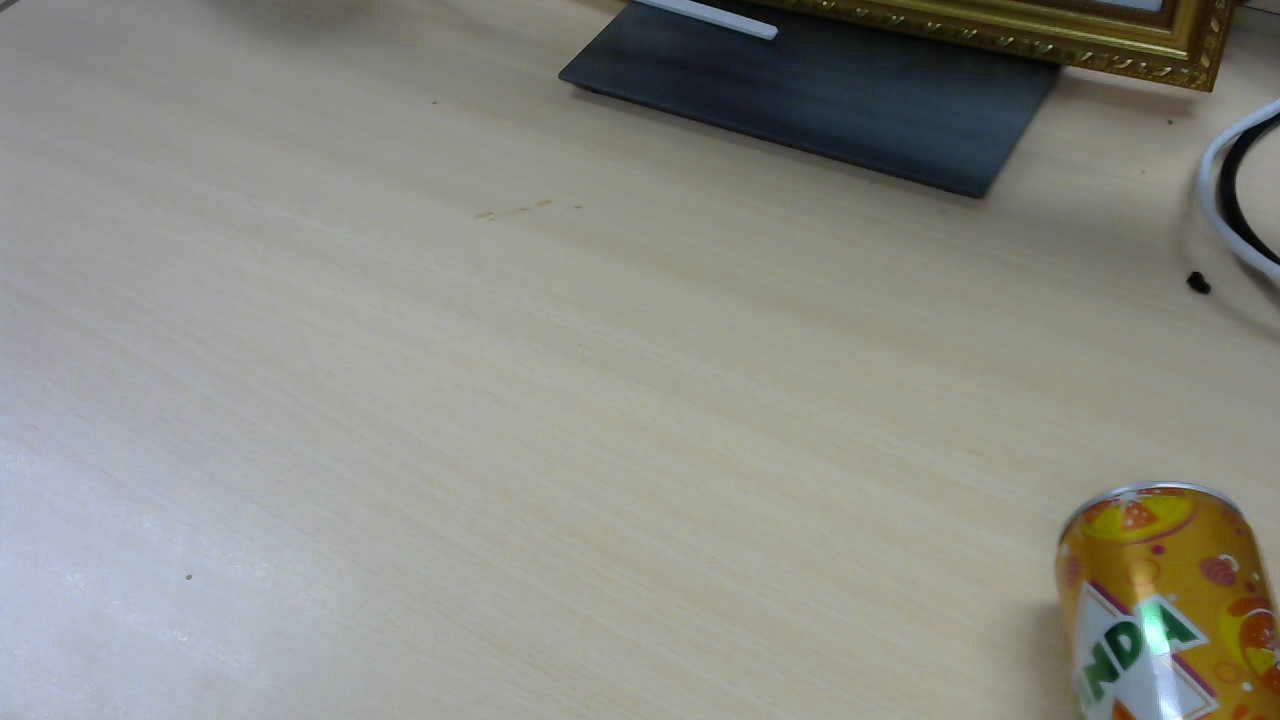Mirinda: (1055, 488, 1280, 696)
